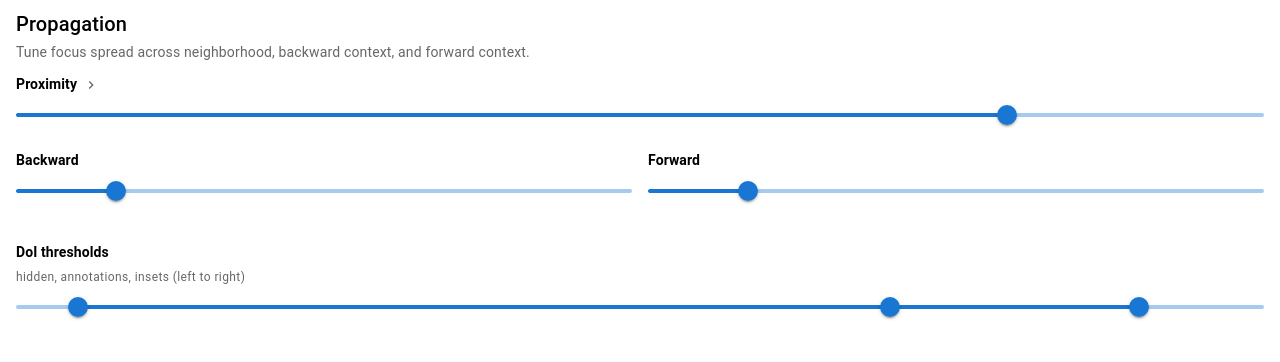
Test: InterestTabSliders falloff unfold (issue #315) › reveals the three falloff options when the arrow is unfolded
The image size is (1280, 362).
Step 1. Click the button named "Proximity details" → coordinates (91, 85), box left=81, top=75, right=101, bottom=95
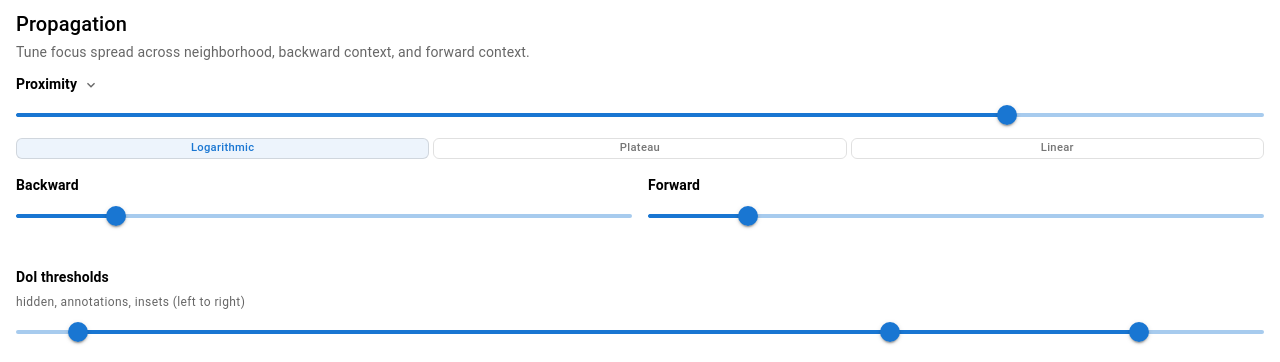
expect the button named "Proximity details" is expanded: met, box left=81, top=75, right=101, bottom=95
expect the button "Logarithmic" is shown: met, box left=16, top=138, right=429, bottom=159
expect the button "Plateau" is shown: met, box left=433, top=138, right=847, bottom=159
